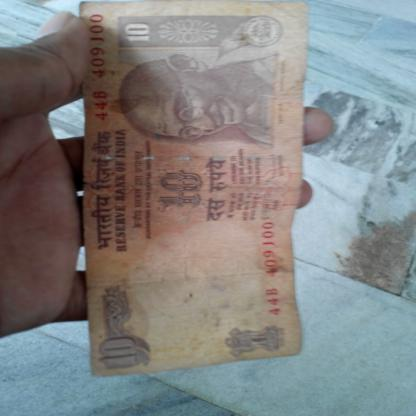Old10Front: (78, 0, 304, 379)
